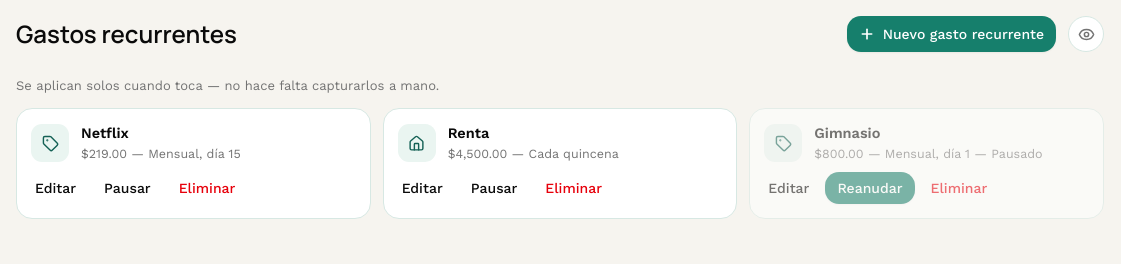
Test: Recurrentes — pausar y reanudar › si el servidor no lo permite, lo dice junto a ese recurrente
The width and height of the screenshot is (1121, 264).
Expected: the text "Netflix" is shown, [81,124,129,142]
Click the button "Pausar" below "Netflix".
click(127, 188)  # box [92,172,163,204]
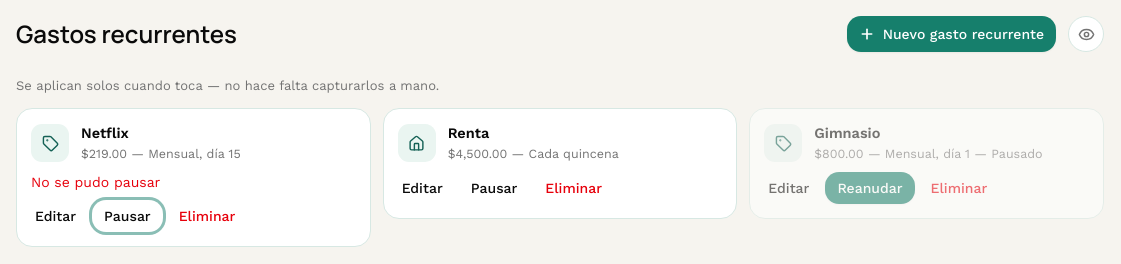
Result: the text "No se pudo pausar" is shown at [31,174,160,190]
